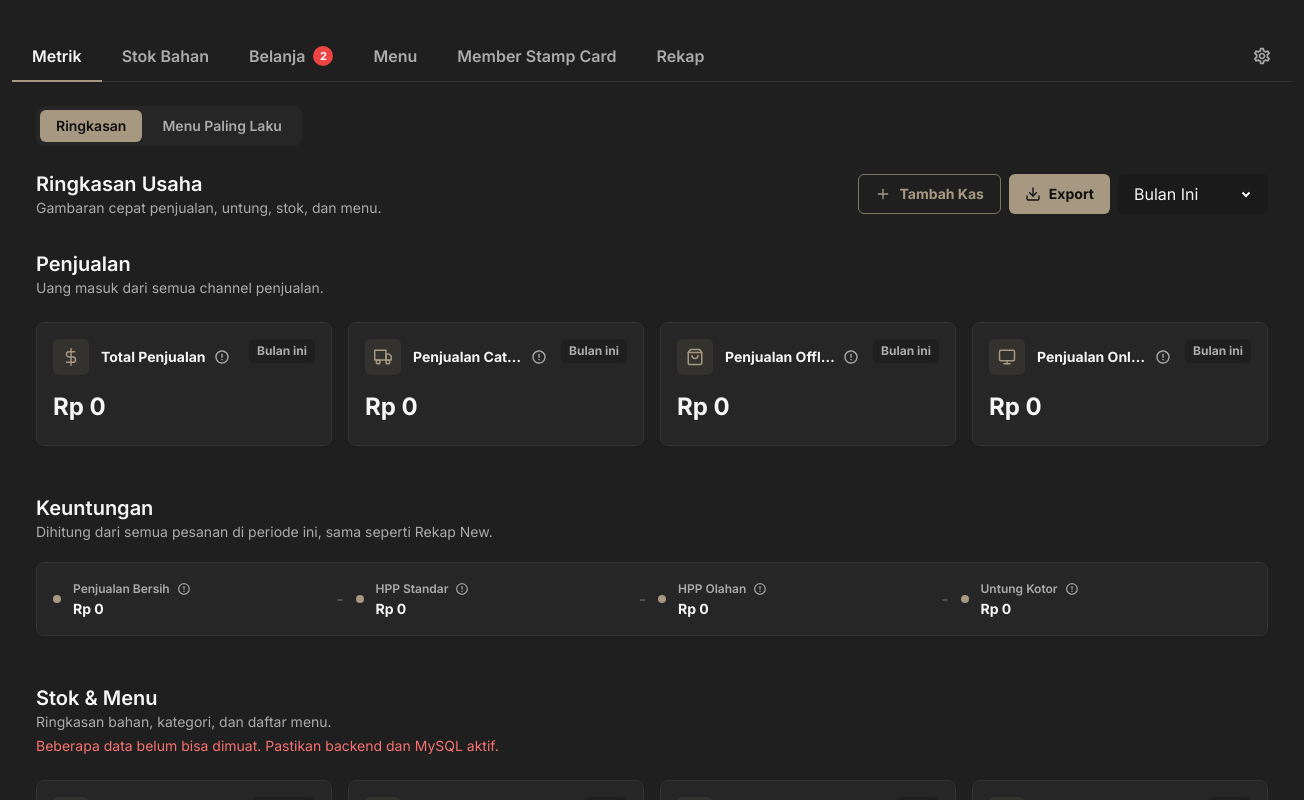
dashboard menus: Stok Bahan holds what is on hand, Belanja the purchases › opens Member Stamp Card on its own menu: Member, Stamp Masuk and Hadiah
The image size is (1304, 800).
Click the button "Member Stamp Card". click: click(537, 57)
box: x1=437 y1=32 x2=636 y2=82
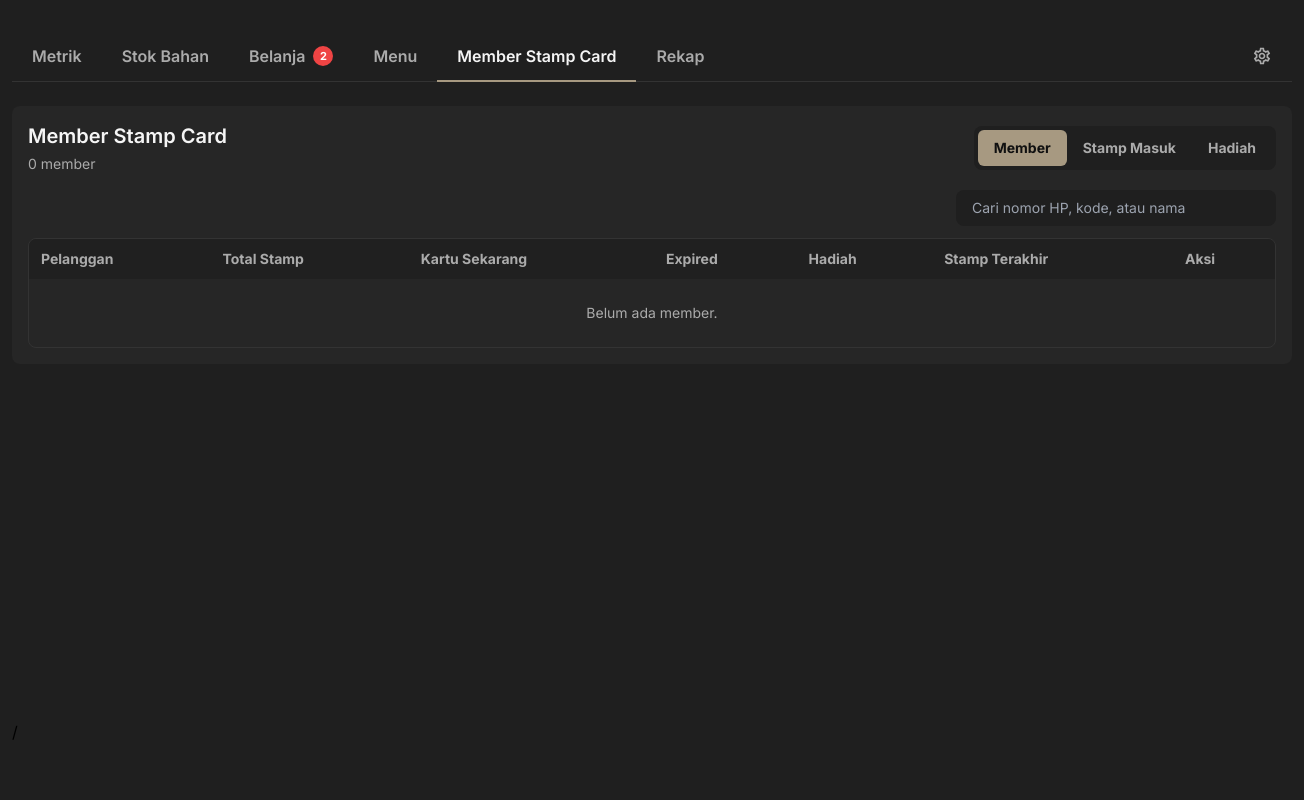
Check: the buttons read "Member", "Stamp Masuk", "Hadiah", in this order, box x1=978 y1=130 x2=1067 y2=166; x1=1067 y1=130 x2=1192 y2=166; x1=1192 y1=130 x2=1272 y2=166
Check: the text "Belum ada member." is shown, box x1=29 y1=279 x2=1275 y2=347
